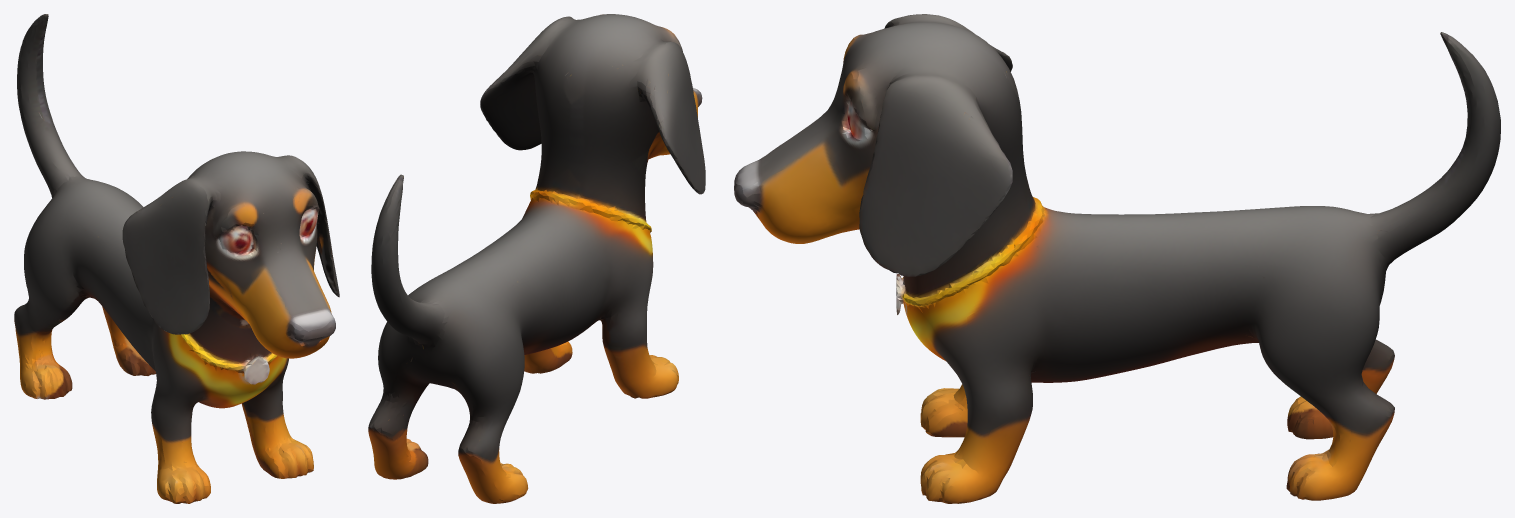
File: blaze_mascot.glb
3 views of the same model, side by side, from view 1: azimuth 30°, elevation 25°; view 2: azimuth 150°, elevation 25°; view 3: azimuth 270°, elevation 25° (orthographic). The views are drawn at different scales.
Visible parts, largest first — view 1: blaze_dachshund_mascot; view 2: blaze_dachshund_mascot; view 3: blaze_dachshund_mascot.
Boxes of the visible parts, x1,y1,x2,y2 form: blaze_dachshund_mascot: (14,14,339,503); blaze_dachshund_mascot: (368,14,705,503); blaze_dachshund_mascot: (734,14,1500,503).
Bounding box in the file's own units: 1.04 × 1.75 × 2.85.
1 material, 1 textured.
